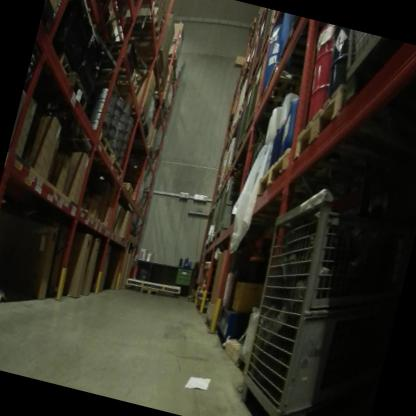pallet: (279, 69, 396, 179), (252, 141, 342, 221), (113, 5, 168, 55), (91, 58, 151, 99), (62, 125, 118, 160), (121, 271, 184, 299), (61, 66, 98, 111), (51, 48, 81, 86), (106, 153, 130, 183), (122, 104, 150, 126), (118, 176, 137, 198), (162, 51, 180, 69), (199, 258, 219, 274), (140, 285, 162, 299)
stillage: (229, 168, 395, 416), (335, 31, 395, 117), (211, 169, 247, 253), (229, 79, 260, 160), (241, 37, 269, 99), (246, 61, 268, 128), (207, 189, 229, 255), (256, 10, 282, 59), (199, 201, 222, 254)
